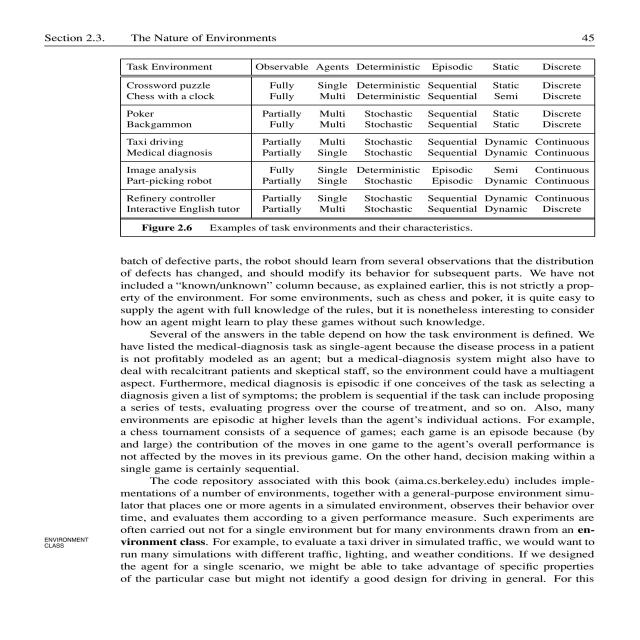diagram: (89, 47, 640, 243)
